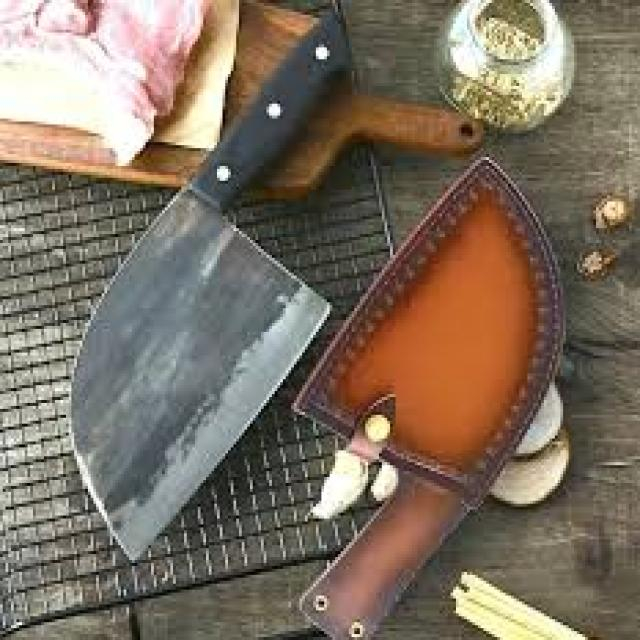Knife: (69, 12, 349, 557)
